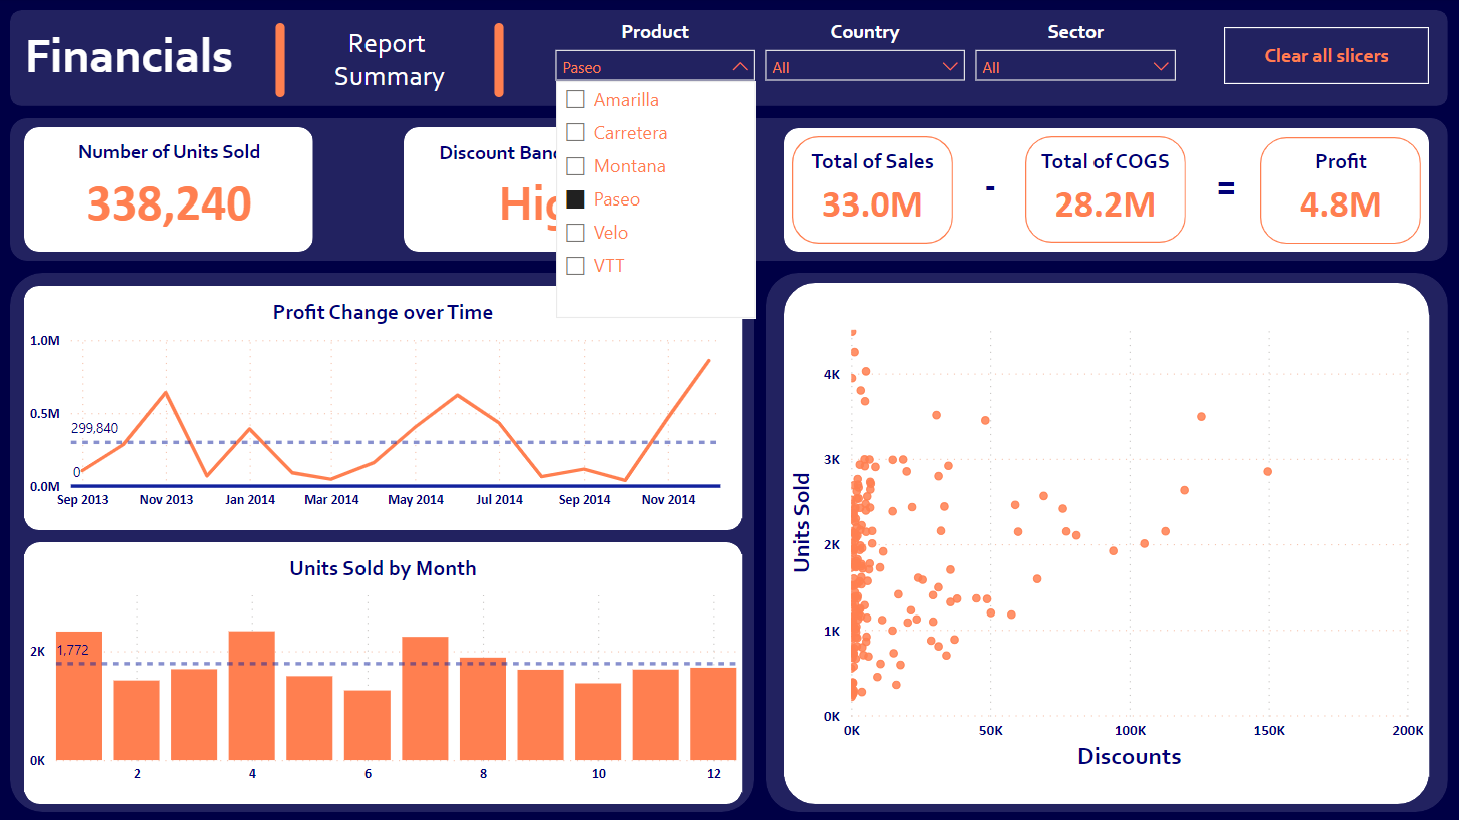

This screenshot's page, from the dashboard's own definition file:
{"tool":"powerbi","page":{"name":"Report Summary","canvas":[1280,720],"ordinal":0},"visuals":[{"type":"shape","box":[10.5,240.3,651.6,471.8],"z":1000},{"type":"shape","box":[672.6,240.3,597.2,471.8],"z":2000},{"type":"shape","box":[10.5,105.2,1259.3,124.5],"z":3000},{"type":"shape","box":[10.5,10.5,1259.3,84.2],"z":4000},{"type":"shape","box":[688.4,114,564.8,107.9],"z":5000},{"type":"shape","box":[355.2,113.1,253.4,108.7],"z":6000},{"type":"shape","box":[22.8,113.1,253.4,108.7],"z":7000},{"type":"shape","box":[688.4,249.1,564.8,456],"z":8000},{"type":"shape","box":[22.8,476.2,628.8,228.9],"z":9000},{"type":"shape","box":[22.8,251.7,628.8,214],"z":10000},{"type":"slicer","title":"Product","fields":{"Values":["financials.Product"]},"box":[478,18.4,194.7,70.2],"z":11000},{"type":"card","title":"Number of Units Sold","fields":{"Values":["Sum(financials.Units Sold)"]},"box":[35.1,123.7,229.8,86.8],"z":12000},{"type":"lineChart","title":"Profit Change over Time","fields":{"Y":["Sum(financials.Profit)"],"Category":["financials.Date.Variation.Date Hierarchy.Year","financials.Date.Variation.Date Hierarchy.Quarter","financials.Date.Variation.Date Hierarchy.Month","financials.Date.Variation.Date Hierarchy.Day"]},"box":[22.8,262.2,628.8,192.9],"z":13000},{"type":"clusteredColumnChart","title":"Units Sold by Month","fields":{"Category":["financials.Month Number"],"Y":["Avg(financials.Units Sold)"]},"box":[22.8,486.7,628.8,207.8],"z":14000},{"type":"card","title":"Total of Sales","fields":{"Values":["Sum(financials. Sales)"]},"box":[700.7,130.7,130.7,78.1],"z":15000},{"type":"card","title":"Total of COGS","fields":{"Values":["Sum(financials.COGS)"]},"box":[905,130.7,129.8,78.1],"z":16000},{"type":"card","title":"Profit","fields":{"Values":["Sum(financials.Profit)"]},"box":[1111.1,130.7,129.8,78.1],"z":17000},{"type":"card","title":"Discount Band Used Most","fields":{"Values":["financials.Top Discount Band for Card"]},"box":[366.6,124.5,230.6,87.7],"z":18000},{"type":"scatterChart","fields":{"X":["financials.Discounts"],"Y":["financials.Units Sold"]},"box":[688.4,277.1,564.8,404.3],"z":19000},{"type":"textbox","box":[18.4,19.3,210.5,63.1],"z":20000},{"type":"slicer","title":"Country","fields":{"Values":["financials.Country"]},"box":[662.1,18.4,194.7,70.2],"z":21000},{"type":"slicer","title":"Sector","fields":{"Values":["financials.Sector"]},"box":[846.3,18.4,194.7,70.2],"z":22000},{"type":"shape","box":[695.4,121,141.2,93.8],"z":23000},{"type":"textbox","box":[849.8,139.4,38.6,57],"z":24000},{"type":"textbox","box":[1054.1,139.4,42.1,57],"z":25000},{"type":"shape","box":[899.8,121,140.3,93],"z":26000},{"type":"shape","box":[1105,121.9,141.2,93],"z":27000},{"type":"actionButton","box":[1073.4,25.4,179.8,50],"z":28000},{"type":"shape","box":[210.5,21.9,73.7,64.9],"z":29000},{"type":"shape","box":[401.7,21.9,73.7,64.9],"z":30000},{"type":"textbox","box":[247.3,19.3,191.2,70.2],"z":31000}]}

Visuals, with their boxes in screenshot pixels (x1, y1, x2, y2), scaled from the page's 1280x720 canvas onto the 1459x820 screenshot:
shape: 12:274:755:811
shape: 767:274:1447:811
shape: 12:120:1447:262
shape: 12:12:1447:108
shape: 785:130:1428:253
shape: 405:129:694:253
shape: 26:129:315:253
shape: 785:284:1428:803
shape: 26:542:743:803
shape: 26:287:743:530
"Product" slicer: 545:21:767:101
"Number of Units Sold" card: 40:141:302:240
"Profit Change over Time" lineChart: 26:299:743:518
"Units Sold by Month" clusteredColumnChart: 26:554:743:791
"Total of Sales" card: 799:149:948:238
"Total of COGS" card: 1032:149:1180:238
"Profit" card: 1266:149:1414:238
"Discount Band Used Most" card: 418:142:681:242
scatterChart - financials.Discounts x financials.Units Sold: 785:316:1428:776
textbox: 21:22:261:94
"Country" slicer: 755:21:977:101
"Sector" slicer: 965:21:1187:101
shape: 793:138:954:245
textbox: 969:159:1013:224
textbox: 1202:159:1249:224
shape: 1026:138:1186:244
shape: 1260:139:1420:245
actionButton: 1224:29:1428:86
shape: 240:25:324:99
shape: 458:25:542:99
textbox: 282:22:500:102
